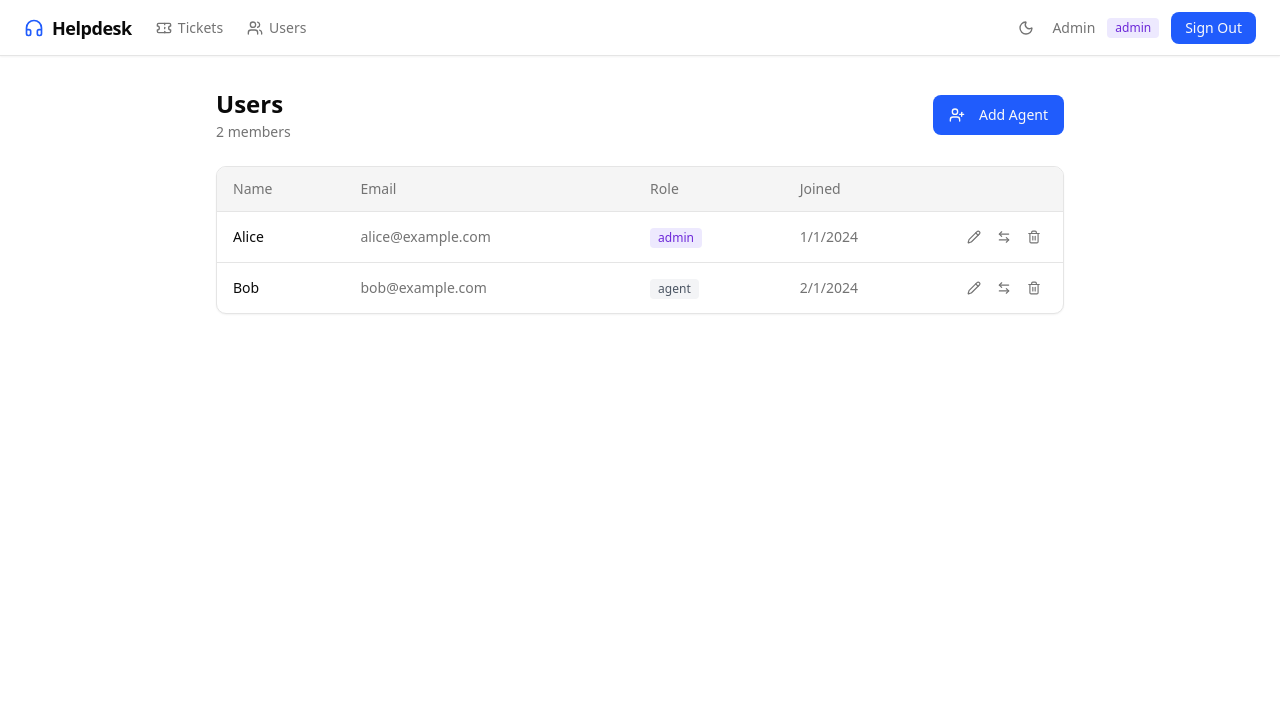
it: UsersPage › Add Agent form › modal dismiss › closes when pressing Escape
Expected: the text "Alice" is shown, [217,212,344,262]
Click the button "Add Agent" at [998, 115], box [933,95,1064,135]
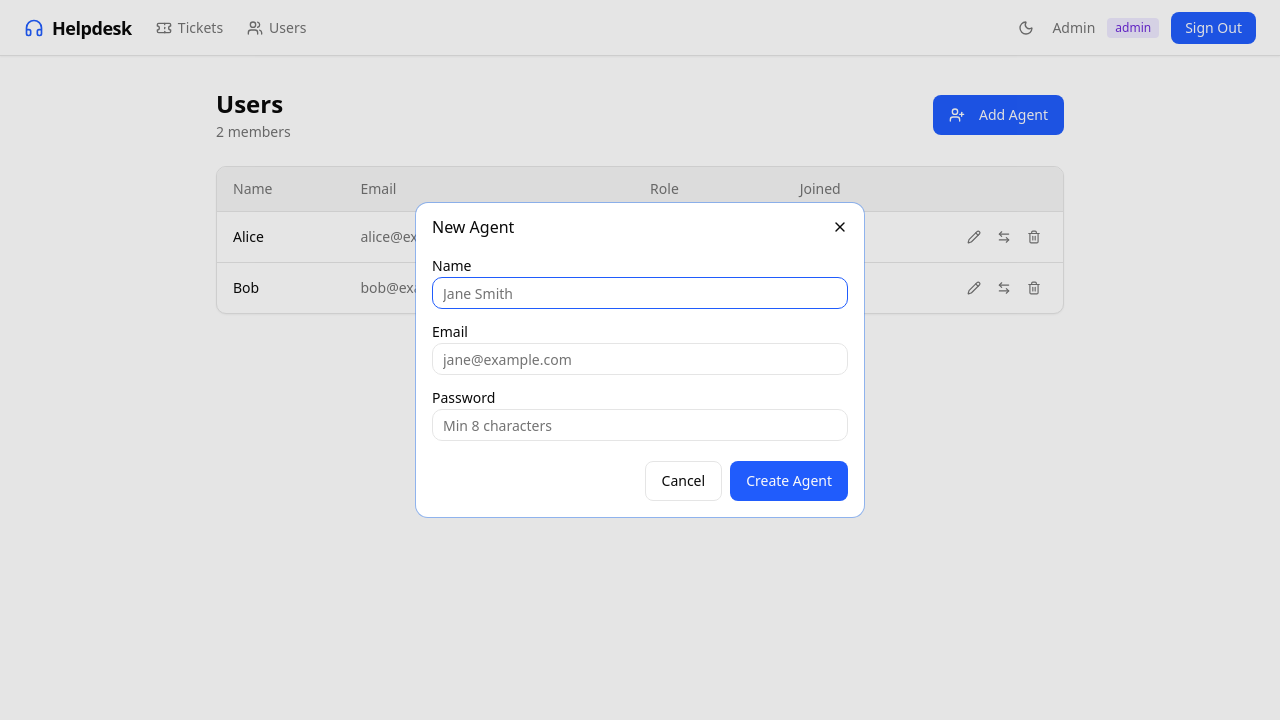
Expected: the heading "New Agent" is shown, [432,216,514,238]
Press Escape
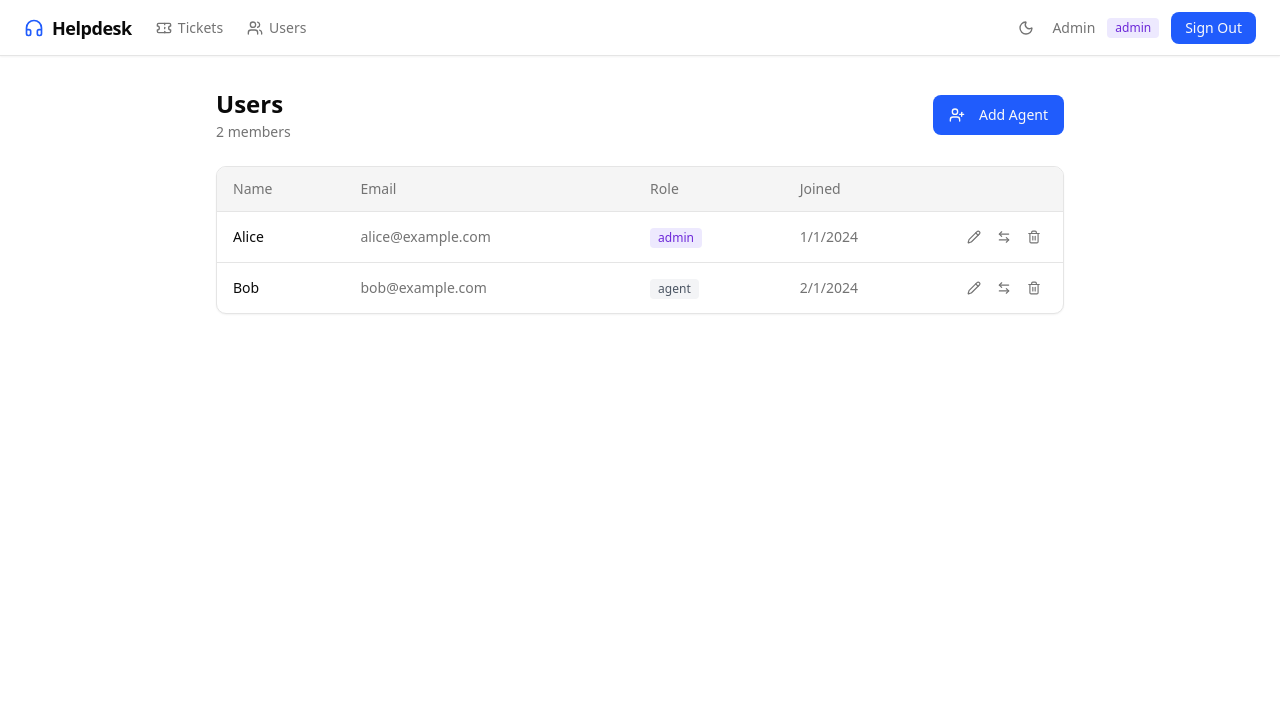
Expected: the heading "New Agent" is gone
